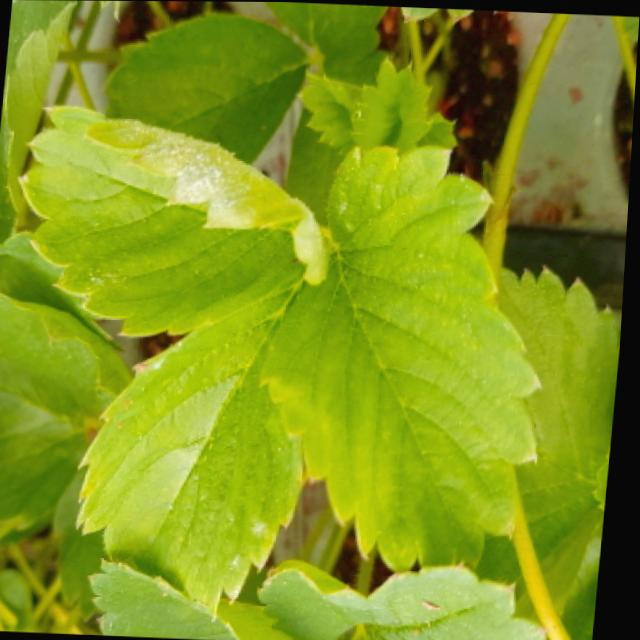Powdery Mildew Leaf: (80, 274, 310, 622), (17, 104, 334, 335)
